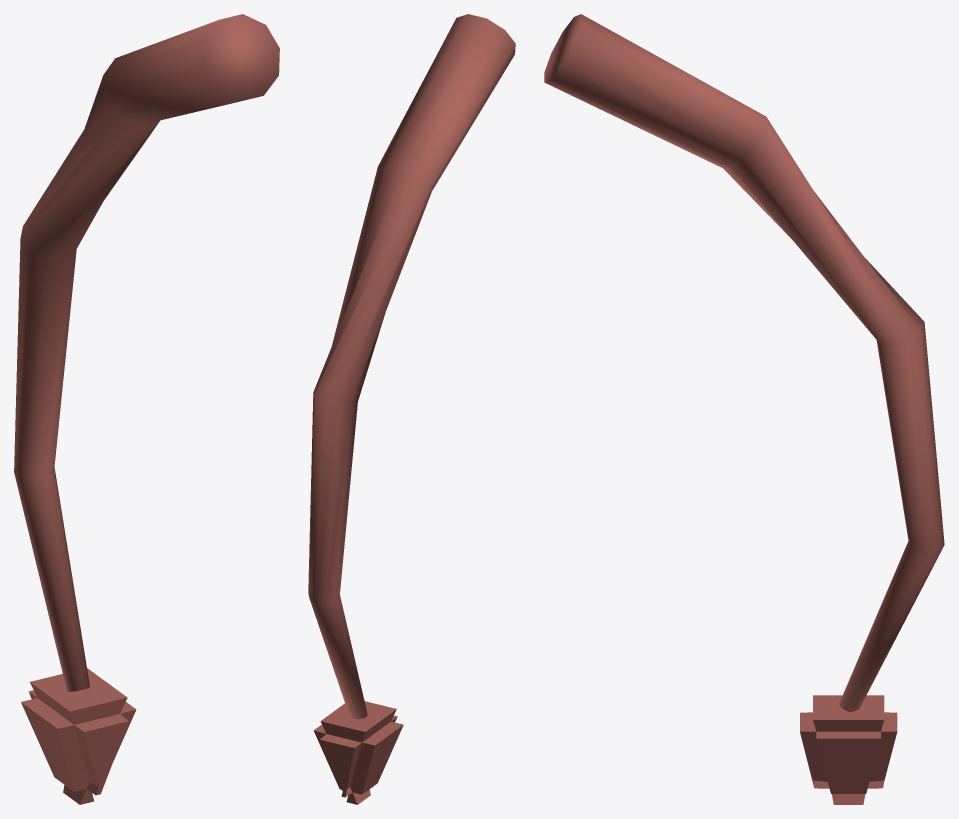
The model's file is tail.glb.
3 views of the same model, side by side, from view 1: azimuth 30°, elevation 25°; view 2: azimuth 150°, elevation 25°; view 3: azimuth 270°, elevation 25° (orthographic). The views are drawn at different scales.
Visible parts, largest first — view 1: Tail, Tail_tip; view 2: Tail, Tail_tip; view 3: Tail, Tail_tip.
Part boxes in pixels (x1,y1,x2,y2): Tail: [14, 14, 279, 691]; Tail_tip: [21, 668, 136, 804]; Tail: [308, 14, 515, 719]; Tail_tip: [313, 701, 403, 804]; Tail: [544, 14, 944, 711]; Tail_tip: [800, 695, 897, 804].
Bounding box in the file's own units: 0.0617 × 0.6648 × 0.308.
